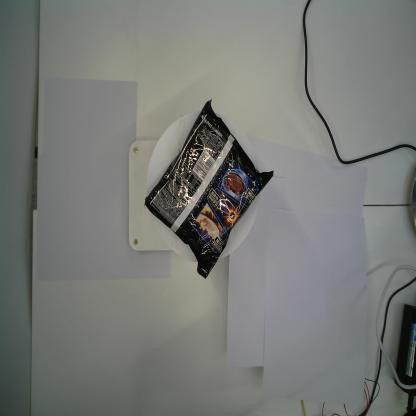Instant Noodles: (142, 97, 277, 281)
